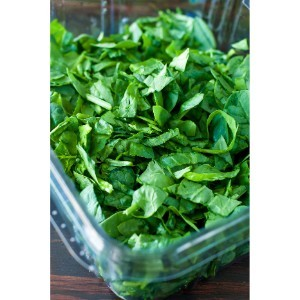spinach_brain food: (70, 55, 232, 229)
